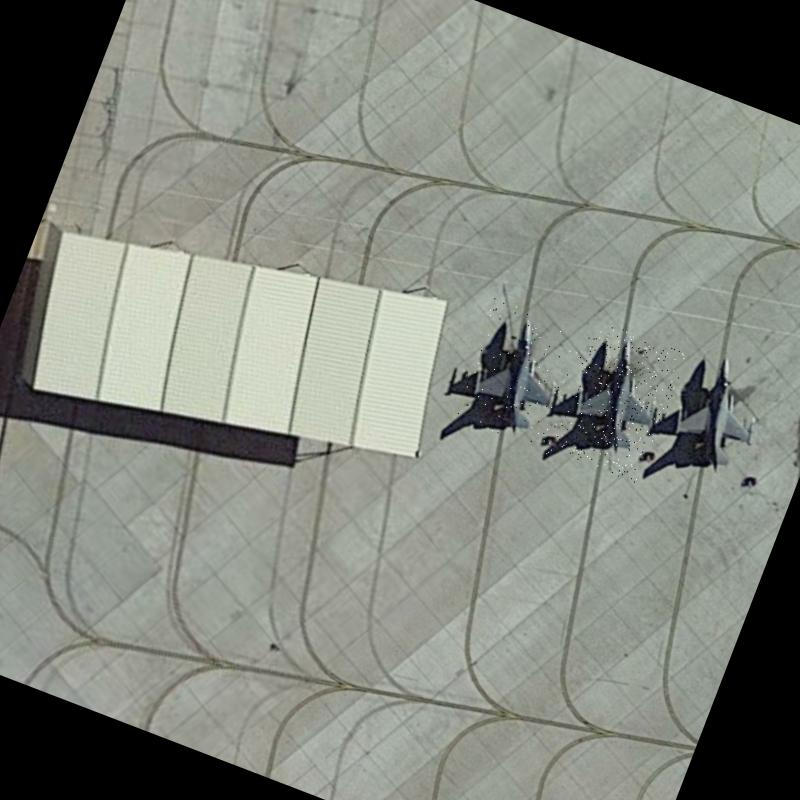A5: (446, 296, 593, 454), (550, 320, 688, 483), (652, 336, 784, 492)
